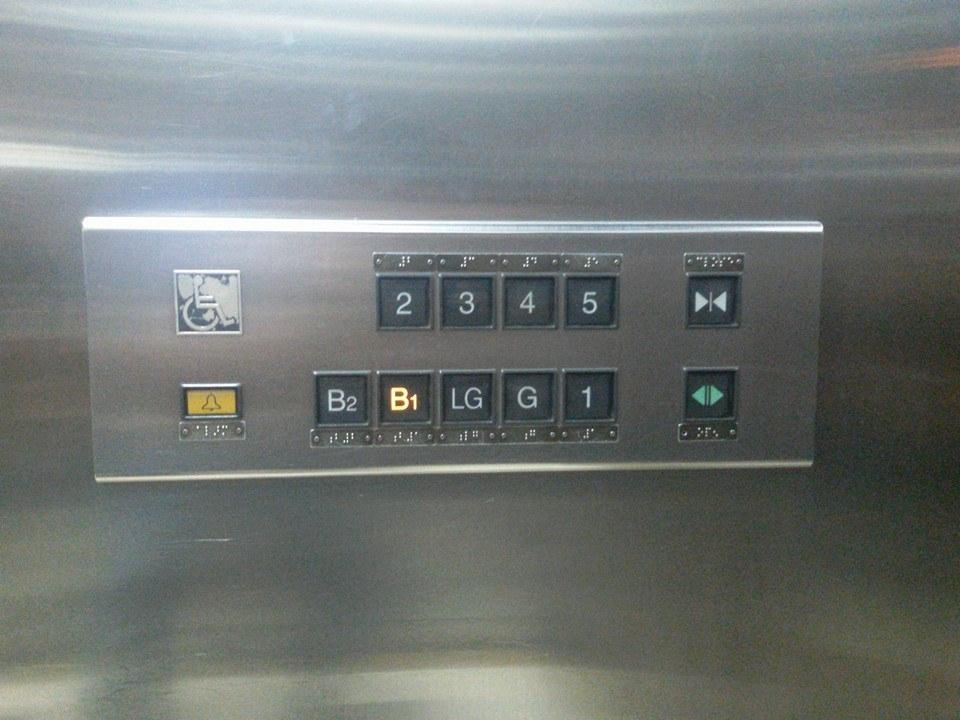1: (558, 368, 619, 425)
2: (375, 272, 437, 334)
3: (435, 272, 498, 331)
4: (496, 272, 559, 334)
5: (557, 272, 621, 332)
B1: (373, 369, 435, 429)
B2: (310, 369, 373, 429)
CH: (172, 267, 244, 337)
G: (495, 366, 559, 428)
LG: (435, 368, 496, 426)
alarm: (177, 382, 244, 420)
close: (683, 272, 741, 330)
open: (680, 366, 737, 423)
